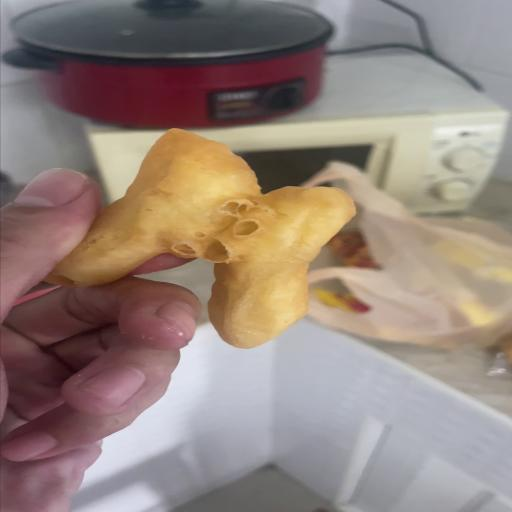street_golden_defect: (48, 129, 354, 348)
